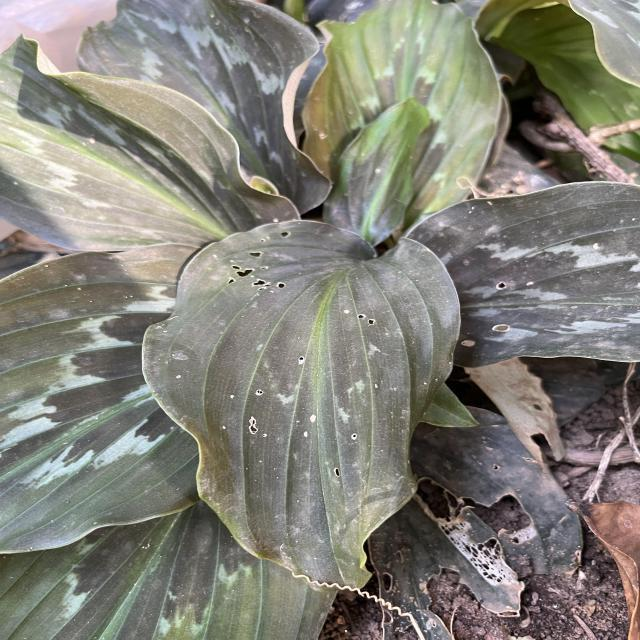Kaempferia galanga linn: (137, 215, 465, 601)
